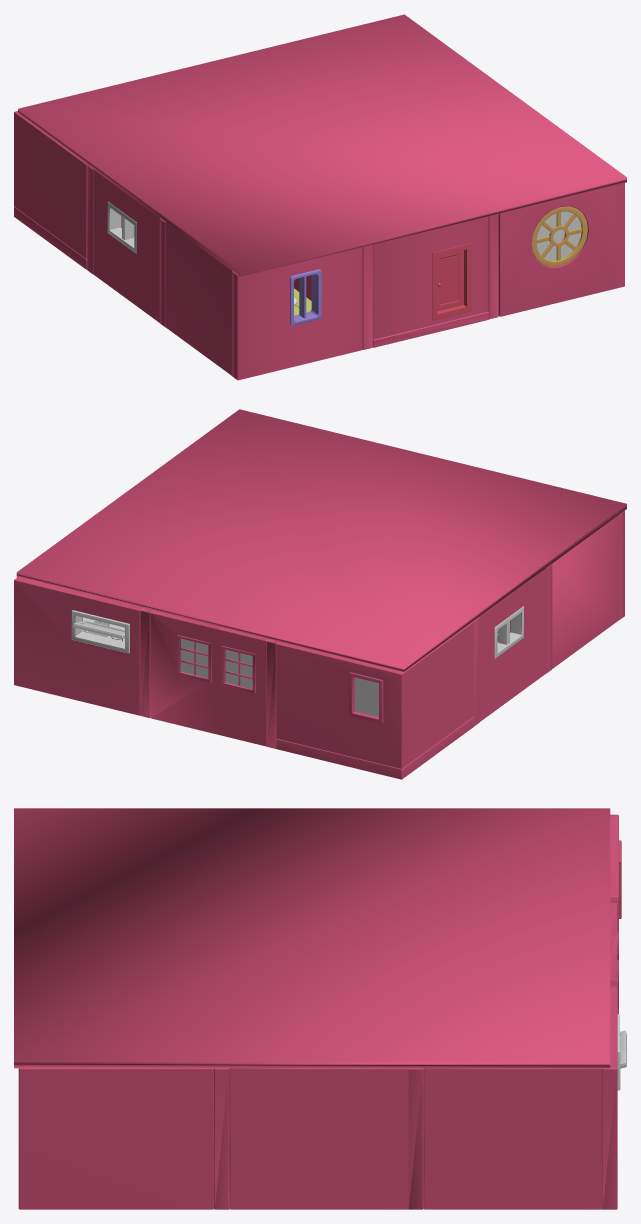
Rendered from houseWithRoofblenderfilewithColorForTestinginUnity.fbx.
3 renders of one model, top to bottom at view 1: azimuth 30°, elevation 25°; view 2: azimuth 150°, elevation 25°; view 3: azimuth 270°, elevation 25°, orthographic. The views are drawn at different scales.
Visible parts, largest first — view 1: roof, BedroomWalls, SecondBedroomWall, bathroomWalls, wallsKitchen, door, SecondBedroomWheelOnWallDecor, officeComputerAndSmallObjects.001, object_15.007, SecondBedroomWallandGround, BedroomWallCabinet; view 2: roof, bathroomWalls, BedroomWalls, wallsKitchen, SecondBedroomWallandGround.001, object_15.001, object_6.006, BedroomWallCabinet, object_15.003; view 3: roof, SecondBedroomWall.001, SecondBedroomWallandGround, SecondBedroomWallandGround.001, bathroomWalls, wallsKitchen.
Boxes of the visible parts, x1,y1,x2,y2 form: roof: (18,14,626,276); BedroomWalls: (87,165,488,380); SecondBedroomWall: (498,185,615,316); bathroomWalls: (14,111,87,269); wallsKitchen: (294,214,498,349); door: (432,243,471,320); SecondBedroomWheelOnWallDecor: (531,206,587,266); officeComputerAndSmallObjects.001: (290,269,321,325); object_15.007: (536,211,581,260); SecondBedroomWallandGround: (615,183,624,288); BedroomWallCabinet: (107,201,136,253); roof: (16,409,626,671); bathroomWalls: (276,621,474,779); BedroomWalls: (474,511,624,725); wallsKitchen: (140,608,278,748); SecondBedroomWallandGround.001: (14,577,142,715); object_15.001: (181,638,252,688); object_6.006: (71,610,129,653); BedroomWallCabinet: (494,606,523,658); object_15.003: (355,677,378,717); roof: (14,808,610,1068); SecondBedroomWall.001: (229,1068,602,1209); SecondBedroomWallandGround: (18,1068,213,1209); SecondBedroomWallandGround.001: (214,986,617,1209); bathroomWalls: (610,814,621,1013); wallsKitchen: (610,897,618,1014).
Size of the model in its own units: 11.28 by 3.08 by 11.52.
